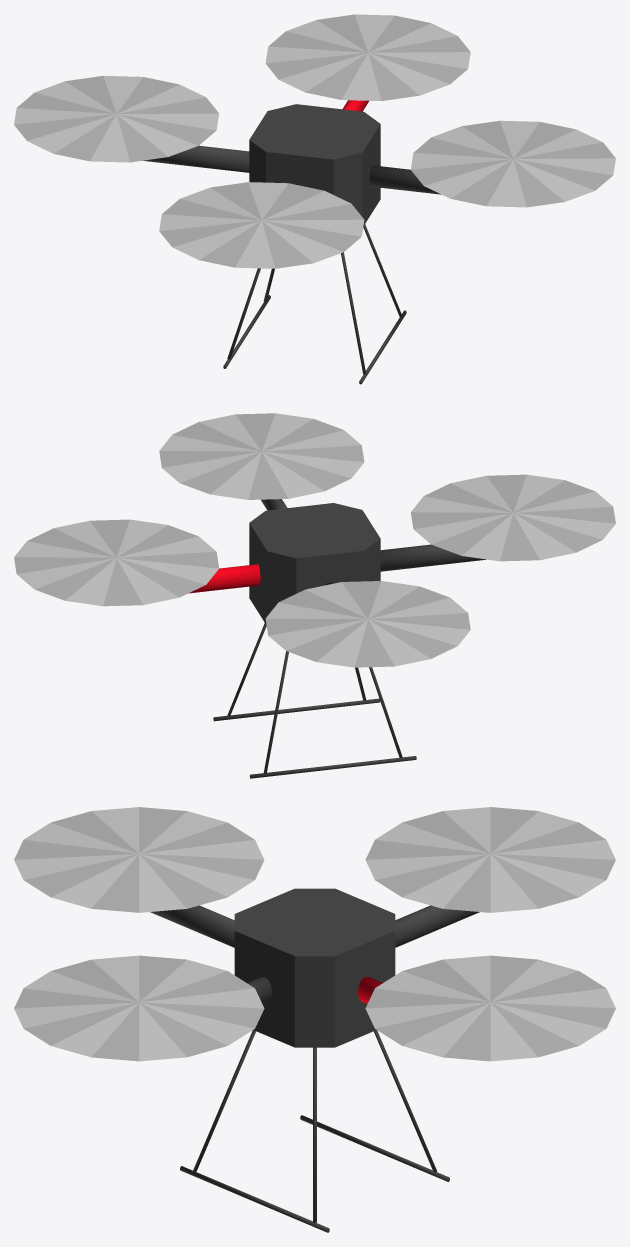
File: quadrotor_base_2.dae
3 views of the same model, one above another, from view 1: azimuth 30°, elevation 25°; view 2: azimuth 150°, elevation 25°; view 3: azimuth 270°, elevation 25° (orthographic). The views are drawn at different scales.
Parts seen in each view (by area): view 1: MainBody_002; view 2: MainBody_002; view 3: MainBody_002.
Part boxes in pixels (x1=…): MainBody_002: x1=14, y1=14, x2=615, y2=384; MainBody_002: x1=14, y1=413, x2=615, y2=778; MainBody_002: x1=14, y1=807, x2=615, y2=1232.
Size of the model in its own units: 0.3221 by 0.3221 by 0.15.
